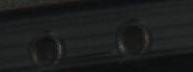joints: (25, 26, 64, 66), (114, 17, 154, 55)
